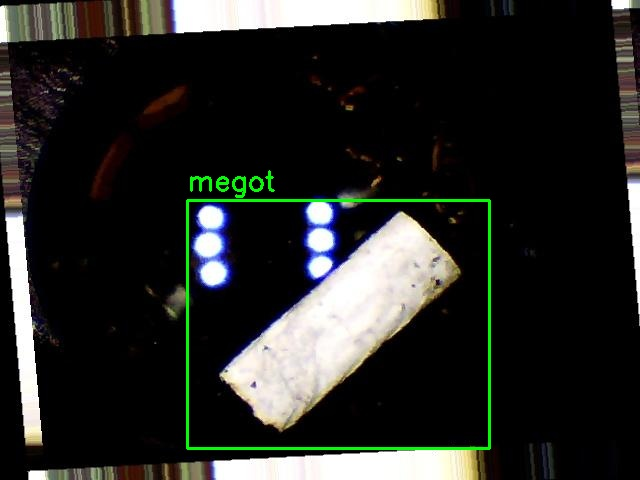megot: (187, 200, 489, 448)
